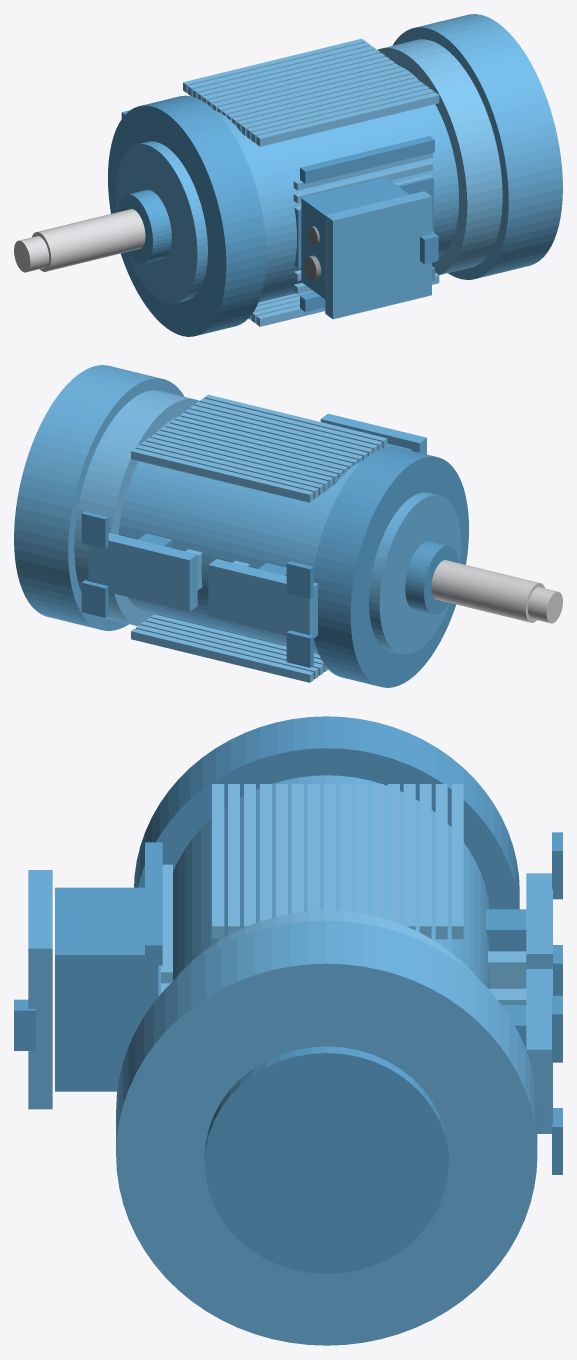
Rendered from ap-eq-motor-electric-procedural-v2.glb.
3 renders of one model, top to bottom at view 1: azimuth 30°, elevation 25°; view 2: azimuth 150°, elevation 25°; view 3: azimuth 270°, elevation 25°, orthographic. The views are drawn at different scales.
Parts seen in each view (by area): view 1: front_bell, fan_shroud, body, rear_bell, terminal_lid, front_face, shaft, terminal_base, tie_2, front_hub, right_fin_15, top_fin_7 (+21 smaller); view 2: front_bell, body, fan_shroud, front_face, rear_bell, rail_right, rail_left, shaft, front_hub, right_fin_0, left_fin_0, terminal_lid (+24 smaller); view 3: fan_shroud, rear_cap, front_bell, terminal_base, body, terminal_lid, rail_right, rail_left, rear_bell, tie_2, right_fin_0, right_fin_1 (+18 smaller).
Boxes of the visible parts, bbox=[...] form: front_bell: bbox=[108, 95, 266, 336]; fan_shroud: bbox=[392, 14, 562, 279]; body: bbox=[215, 66, 458, 302]; rear_bell: bbox=[377, 39, 502, 274]; terminal_lid: bbox=[325, 191, 431, 319]; front_face: bbox=[115, 141, 207, 303]; shaft: bbox=[32, 209, 145, 271]; terminal_base: bbox=[301, 177, 409, 298]; tie_2: bbox=[300, 136, 434, 183]; front_hub: bbox=[117, 190, 171, 263]; right_fin_15: bbox=[256, 92, 439, 146]; top_fin_7: bbox=[293, 161, 432, 203]; front_bell: bbox=[313, 446, 468, 687]; body: bbox=[118, 416, 361, 653]; fan_shroud: bbox=[14, 365, 184, 630]; front_face: bbox=[369, 492, 461, 654]; rear_bell: bbox=[74, 390, 199, 625]; rail_right: bbox=[88, 532, 197, 611]; rail_left: bbox=[208, 559, 317, 638]; shaft: bbox=[431, 560, 544, 622]; front_hub: bbox=[405, 541, 459, 614]; right_fin_0: bbox=[131, 448, 313, 502]; left_fin_0: bbox=[131, 628, 313, 682]; terminal_lid: bbox=[320, 413, 426, 454]; fan_shroud: bbox=[116, 920, 537, 1345]; rear_cap: bbox=[204, 1046, 448, 1273]; front_bell: bbox=[134, 716, 519, 1000]; terminal_base: bbox=[55, 887, 154, 1091]; body: bbox=[173, 775, 490, 988]; terminal_lid: bbox=[28, 870, 52, 1109]; rail_right: bbox=[526, 969, 552, 1133]; rail_left: bbox=[526, 873, 552, 968]; rear_bell: bbox=[175, 910, 479, 980]; tie_2: bbox=[145, 842, 162, 965]; right_fin_0: bbox=[451, 784, 463, 939]; right_fin_1: bbox=[435, 784, 447, 939].
Bounding box in the file's own units: 4.14 × 1.9 × 2.47.
